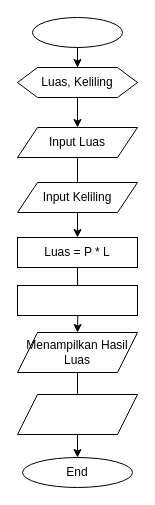
Image size: 155x505. Some labels were removed from this diagram. The centre of each missing label's shape, as x and y in pixels:
Keliling = 2*(P+LO): the point at 77,300
Menampilkan Hasil Keliling: the point at 77,414
Start: the point at 77,32
